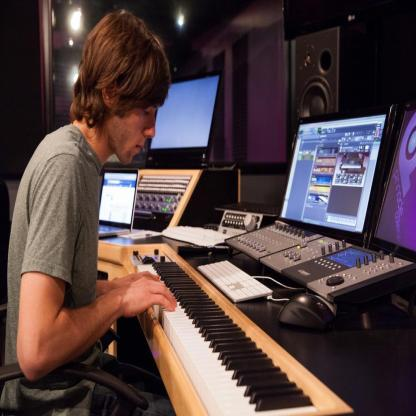board: (97, 167, 139, 240)
